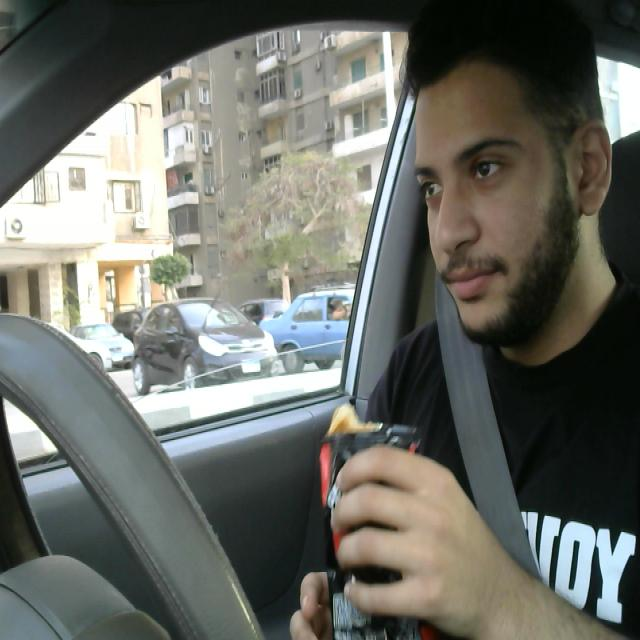eating: (318, 393, 426, 640)
